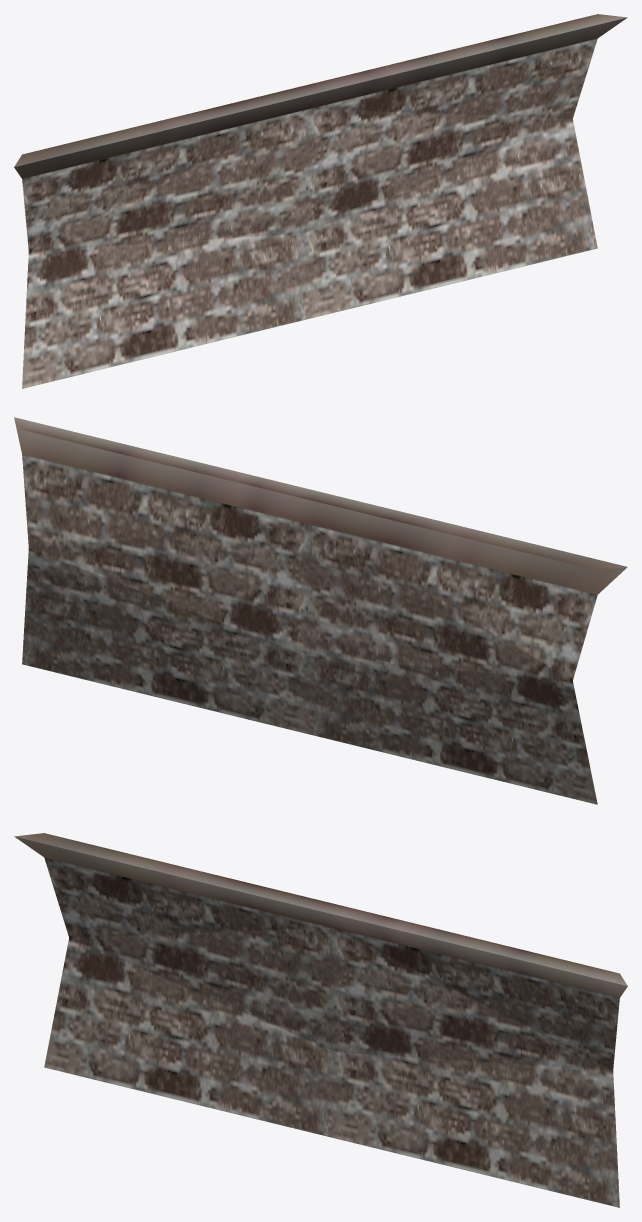
File: W_A1_xxxx [HelleSteine]_2159.glb
3 renders of one model, top to bottom at view 1: azimuth 30°, elevation 25°; view 2: azimuth 150°, elevation 25°; view 3: azimuth 330°, elevation 25°, orthographic.
Visible parts, largest first — view 1: polySurfaceShape787, polySurfaceShape1065; view 2: polySurfaceShape787, polySurfaceShape1065; view 3: polySurfaceShape787, polySurfaceShape1065.
Part boxes in pixels (x1=…): polySurfaceShape787: x1=22, y1=38, x2=597, y2=388; polySurfaceShape1065: x1=14, y1=14, x2=627, y2=178; polySurfaceShape787: x1=22, y1=454, x2=597, y2=804; polySurfaceShape1065: x1=14, y1=417, x2=627, y2=594; polySurfaceShape787: x1=44, y1=857, x2=619, y2=1207; polySurfaceShape1065: x1=14, y1=833, x2=627, y2=997.
Size of the model in its own units: 1.07 by 0.3891 by 0.0607.
Materials: 2 (2 with a texture image).
